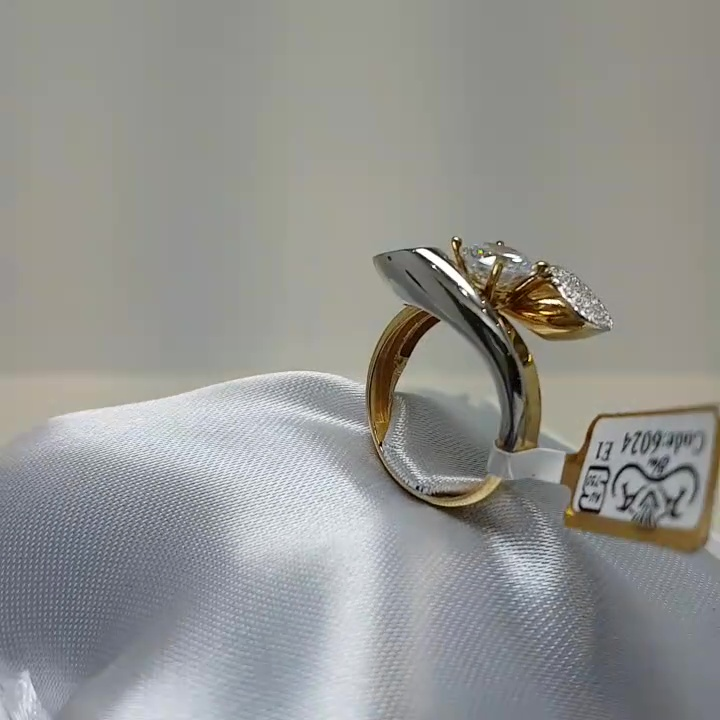Ring 7: (344, 207, 612, 529)
